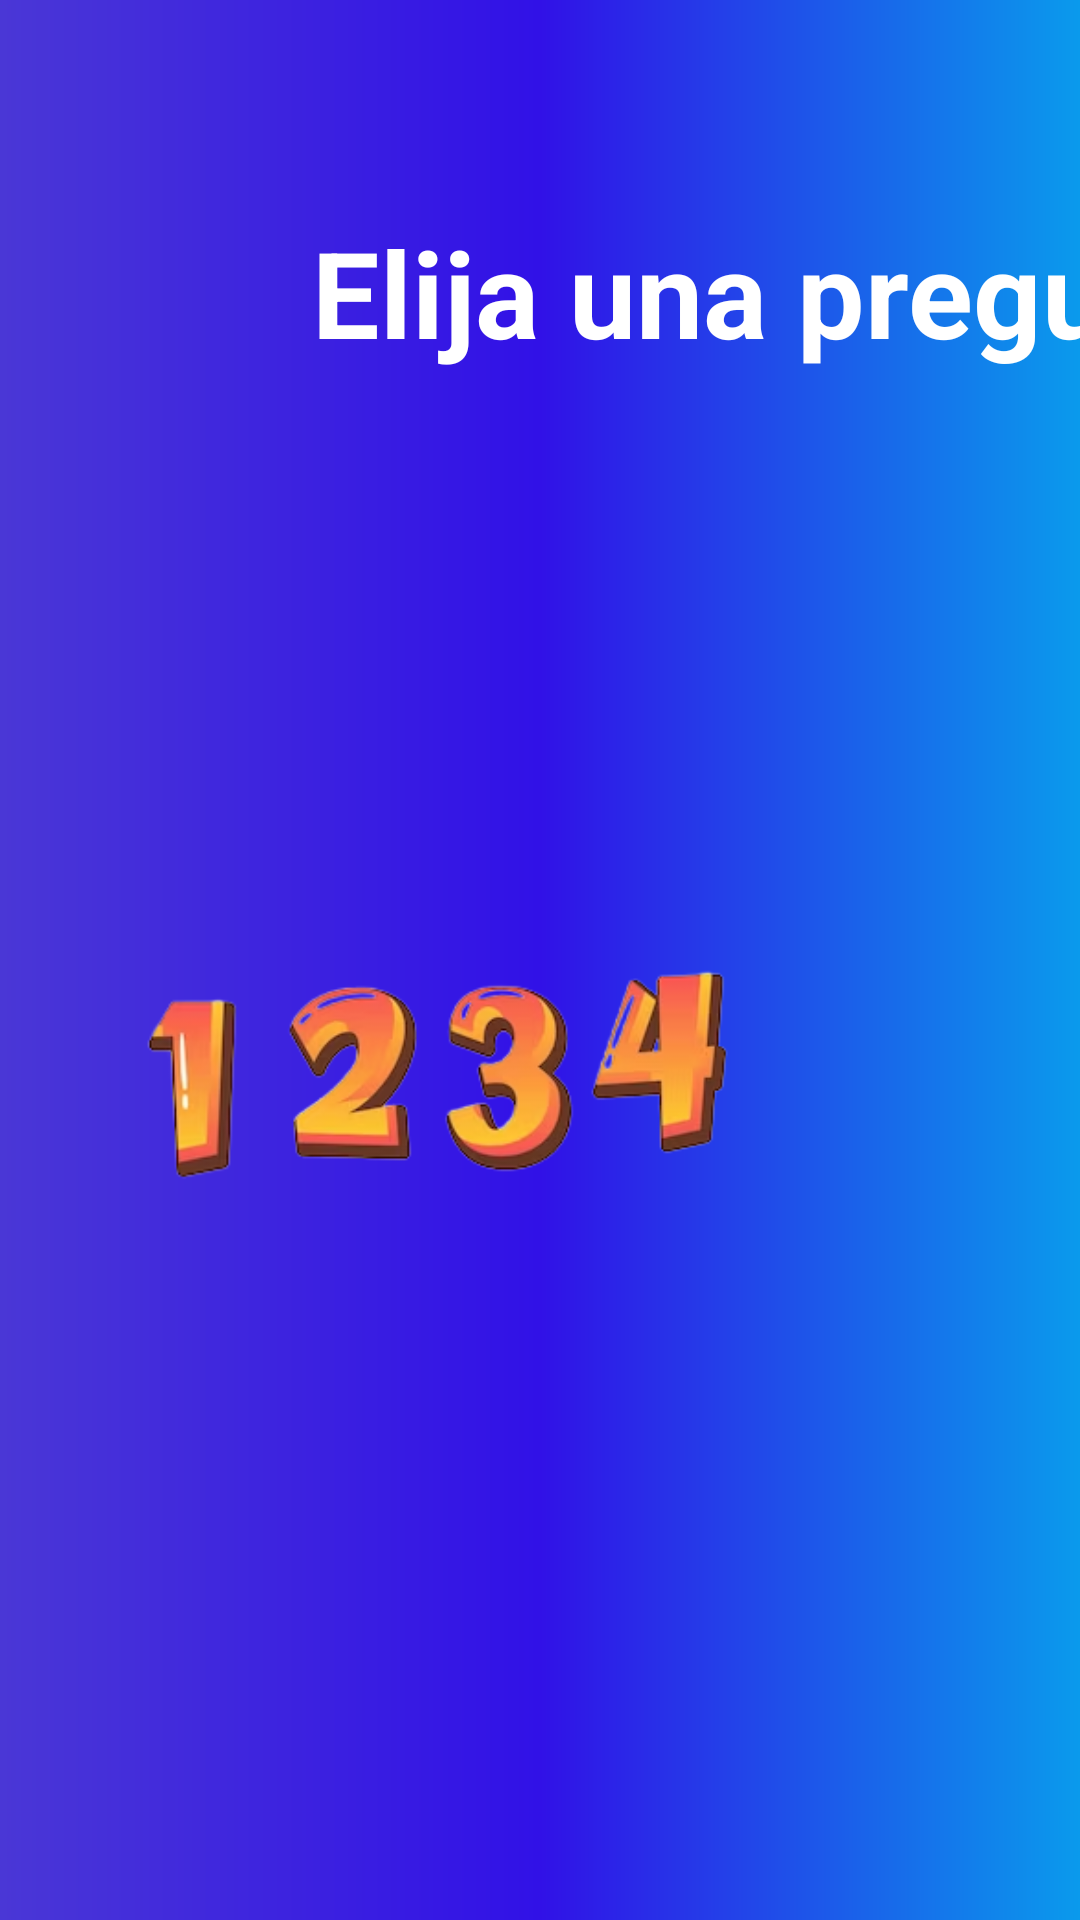

Icons on this 1080x1920 Android screen, each with the point to tap as (x=x, y=y):
numero: (x=666, y=1068), (x=509, y=1078), (x=353, y=1073), (x=191, y=1088)
